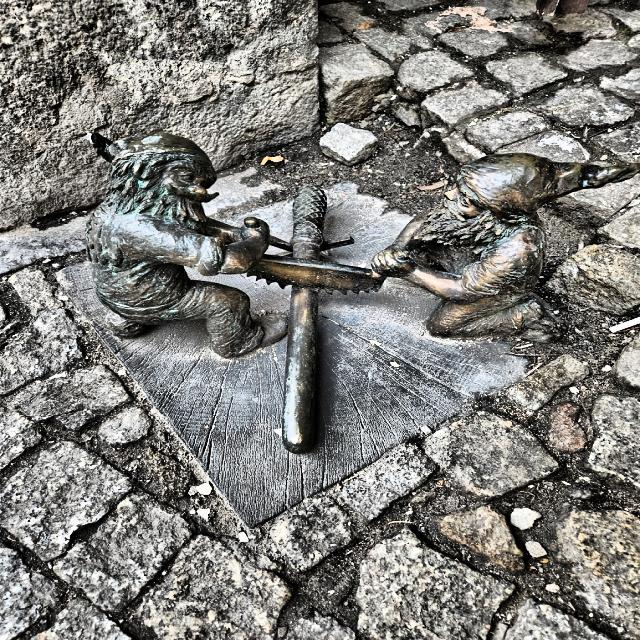Wyrostek i Zadymek: (88, 132, 638, 452)
